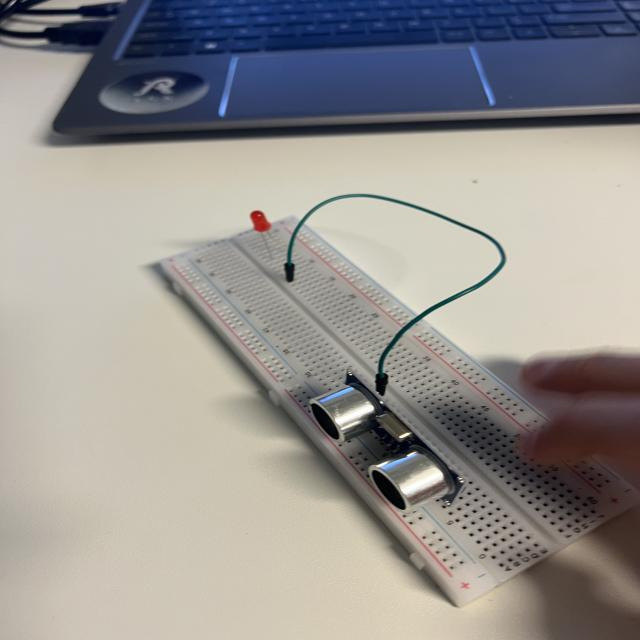BreadBoard: (165, 217, 596, 586)
REDLed: (239, 203, 286, 260)
UltrasoneSensor: (294, 375, 485, 525)
